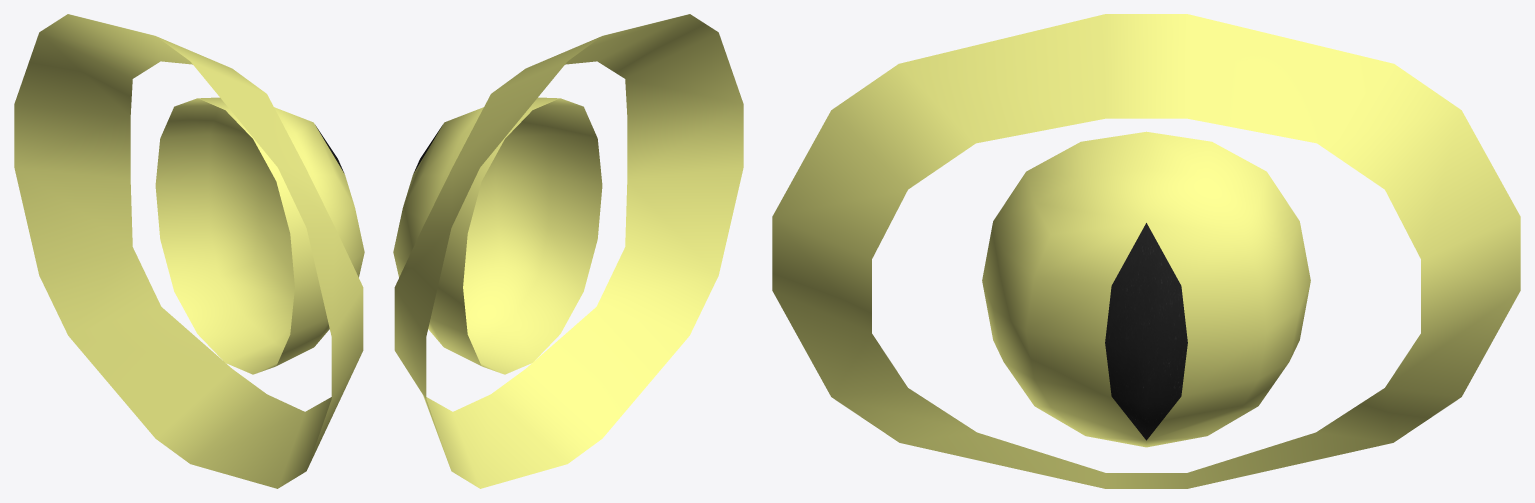
File: eye.fbx
3 renders of one model, left to right at view 1: azimuth 30°, elevation 25°; view 2: azimuth 150°, elevation 25°; view 3: azimuth 270°, elevation 25°, orthographic. The views are drawn at different scales.
Parts seen in each view (by area): view 1: pCube8; view 2: pCube8; view 3: pCube8.
Boxes of the visible parts, x1,y1,x2,y2 form: pCube8: (14,14,364,488); pCube8: (393,14,743,488); pCube8: (772,14,1520,488).
Bounding box in the file's own units: 37.26 × 82.86 × 118.
